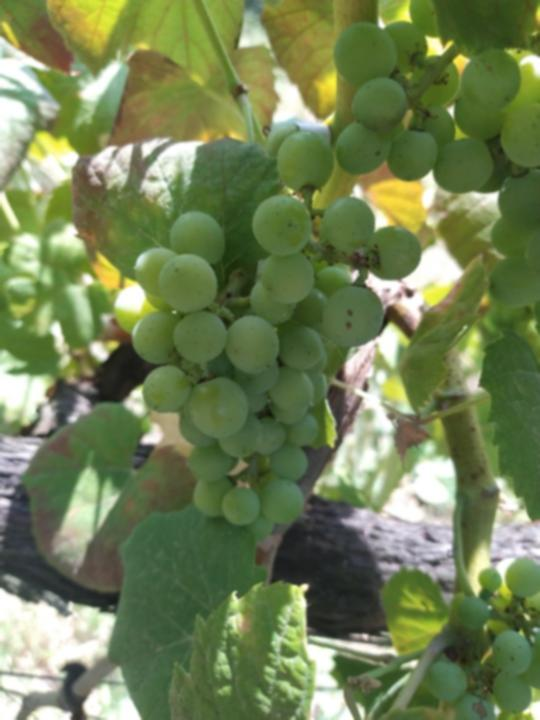grape: (113, 126, 424, 543)
